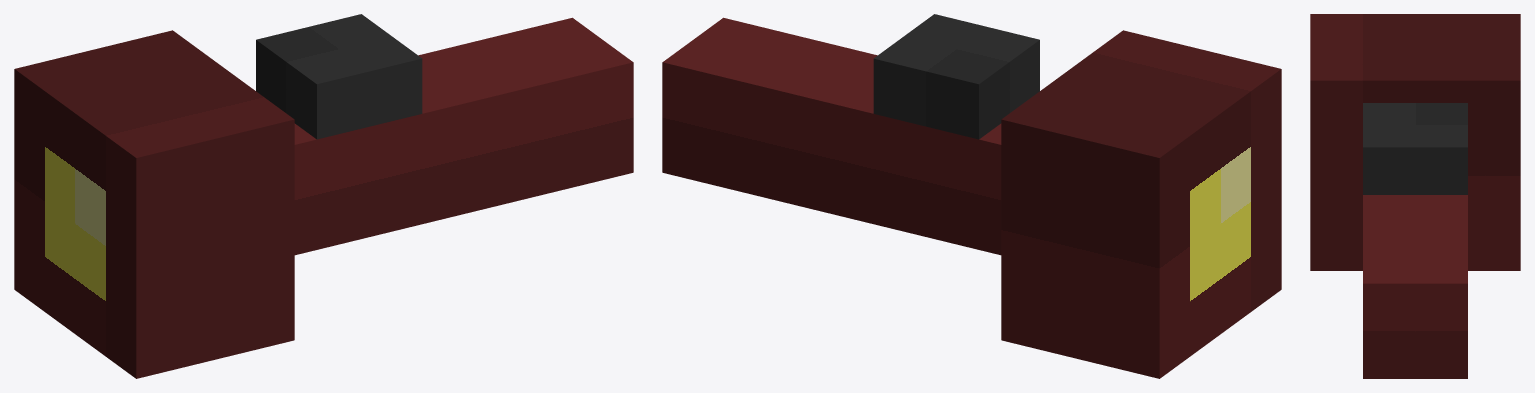
The model's file is Flashlight_LODGroup.fbx.
The picture shows the model from 3 angles, left to right: view 1: azimuth 30°, elevation 25°; view 2: azimuth 150°, elevation 25°; view 3: azimuth 270°, elevation 25°; orthographic projection. The views are drawn at different scales.
Parts seen in each view (by area): view 1: Flashlight_LOD0; view 2: Flashlight_LOD0; view 3: Flashlight_LOD0.
Part boxes in pixels (x1=…): Flashlight_LOD0: x1=14, y1=14, x2=633, y2=378; Flashlight_LOD0: x1=662, y1=14, x2=1281, y2=378; Flashlight_LOD0: x1=1310, y1=14, x2=1520, y2=378.
Size of what is drawn, in the model's own units: 0.67 by 0.268 by 0.268.
